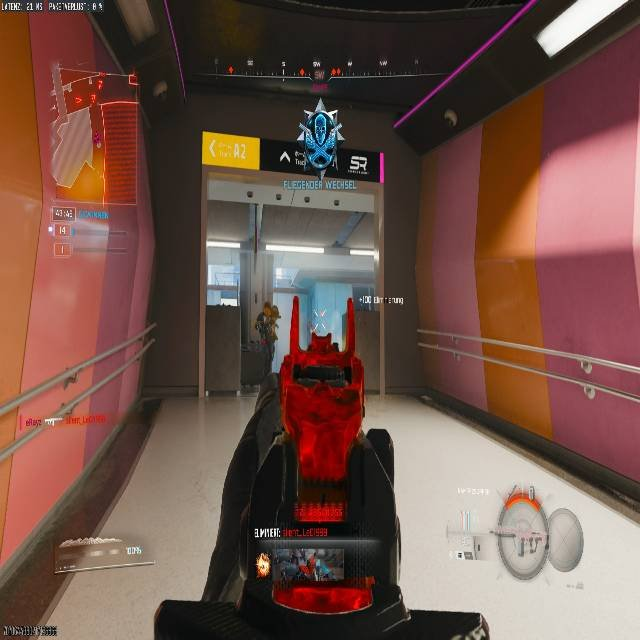head: (278, 335, 365, 427), (263, 301, 272, 313)
player: (195, 329, 407, 625), (255, 301, 281, 375)
